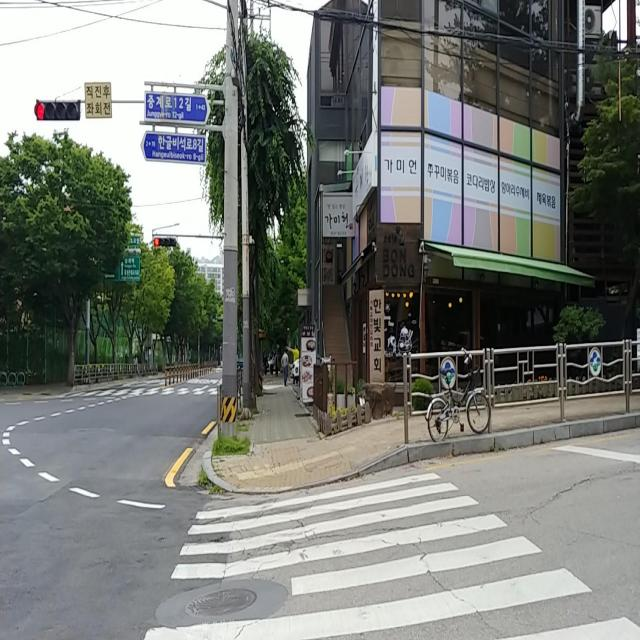횡단보도: (142, 470, 640, 639), (64, 382, 220, 400)
